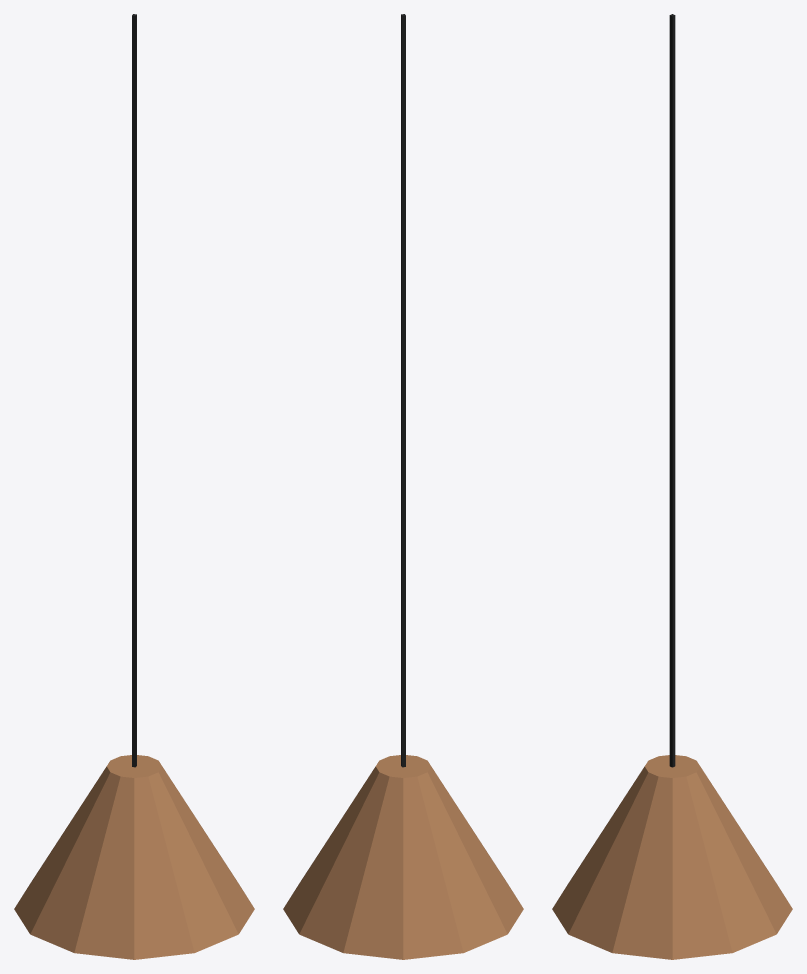
File: pendant_shade.fbx
3 views of the same model, side by side, from view 1: azimuth 30°, elevation 25°; view 2: azimuth 150°, elevation 25°; view 3: azimuth 270°, elevation 25° (orthographic).
Parts seen in each view (by area): view 1: pendant_shade; view 2: pendant_shade; view 3: pendant_shade.
Boxes of the visible parts, x1,y1,x2,y2 form: pendant_shade: (14, 14, 254, 959); pendant_shade: (283, 14, 523, 959); pendant_shade: (552, 14, 792, 959).
Bounding box in the file's own units: 0.26 × 1.07 × 0.26.
